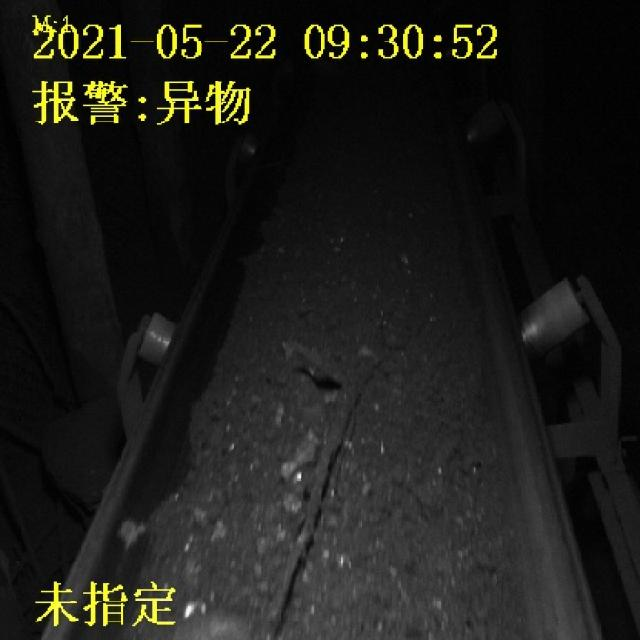bolt: (263, 337, 366, 640)
